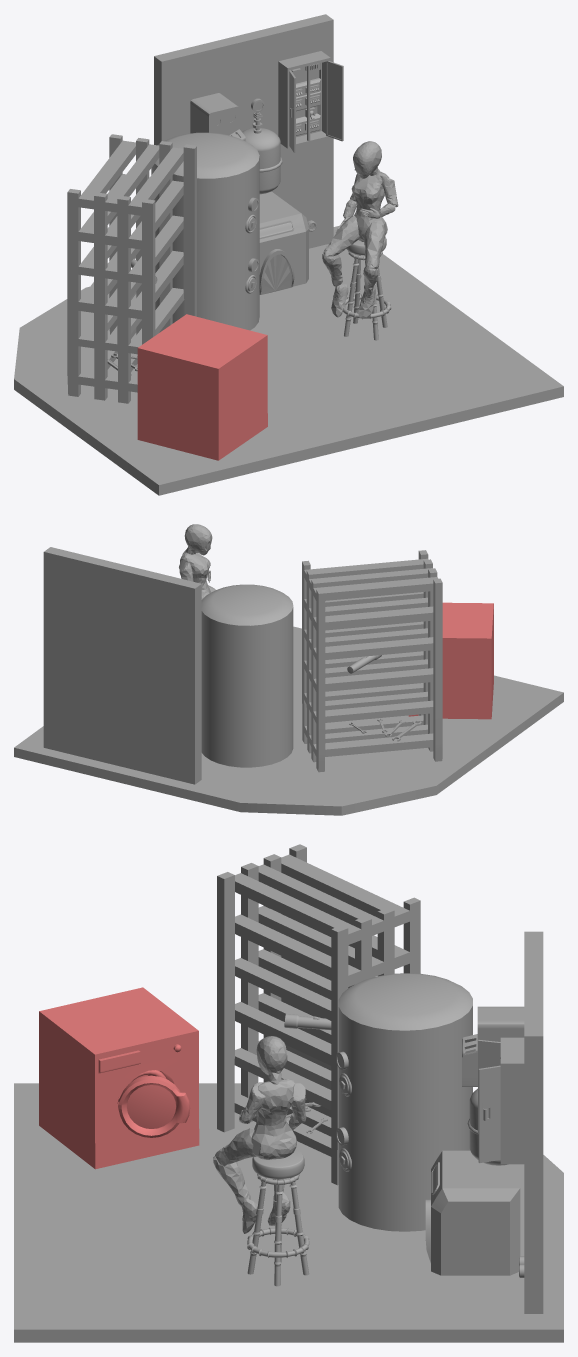
3 renders of one model, top to bottom at view 1: azimuth 30°, elevation 25°; view 2: azimuth 150°, elevation 25°; view 3: azimuth 270°, elevation 25°, orthographic. The views are drawn at different scales.
Parts seen in each view (by area): view 1: floor, shelf_3, wall, Washingmachine_Cap1, boiler_1, polySurface20, boiler_2, fuse_box, boiler_4, boiler_3, bar_chair, Fuse_box_door_left; view 2: wall, shelf_3, floor, boiler_1, Washingmachine_Cap1, polySurface20; view 3: floor, shelf_3, boiler_1, Washingmachine_Cap1, boiler_2, wall, polySurface20, bar_chair, fuse_box, boiler_3, Fuse_box_door_left, boiler_4 (+2 smaller).
Boxes of the visible parts, x1,y1,x2,y2 form: floor: (14, 225, 563, 495); shelf_3: (67, 134, 196, 403); wall: (154, 14, 333, 248); Washingmachine_Cap1: (137, 314, 267, 460); boiler_1: (151, 132, 259, 330); polySurface20: (322, 141, 398, 318); boiler_2: (259, 191, 308, 294); fuse_box: (278, 51, 330, 148); boiler_4: (242, 98, 282, 194); boiler_3: (190, 93, 245, 141); bar_chair: (343, 236, 391, 340); Fuse_box_door_left: (326, 61, 343, 141); wall: (43, 547, 201, 784); shelf_3: (302, 550, 442, 772); floor: (14, 626, 563, 815); boiler_1: (201, 584, 293, 767); Washingmachine_Cap1: (408, 602, 493, 719); polySurface20: (179, 524, 215, 597); floor: (14, 1083, 563, 1342); shelf_3: (217, 844, 420, 1185); boiler_1: (336, 973, 472, 1231); Washingmachine_Cap1: (39, 987, 199, 1169); boiler_2: (425, 1150, 520, 1275); wall: (524, 931, 543, 1313); polySurface20: (213, 1036, 306, 1233); bar_chair: (247, 1149, 309, 1286); fuse_box: (500, 1037, 524, 1164); boiler_3: (462, 1006, 524, 1086); Fuse_box_door_left: (478, 1065, 500, 1163); boiler_4: (467, 1088, 508, 1165).
Size of the model in its own units: 5.73 by 3.16 by 5.41.
